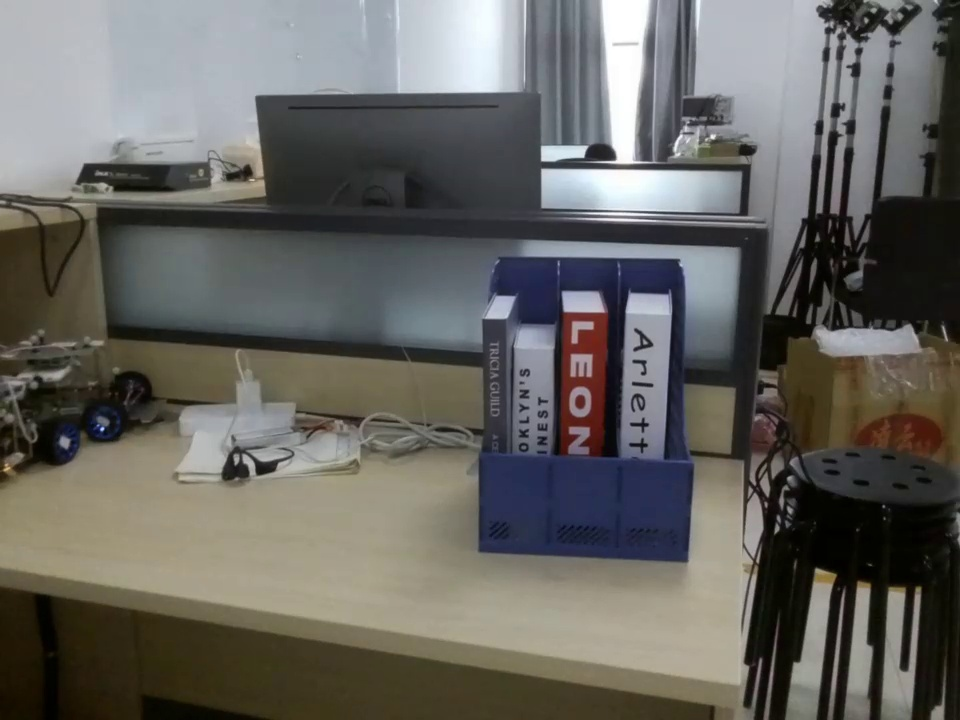files: (472, 251, 698, 564)
